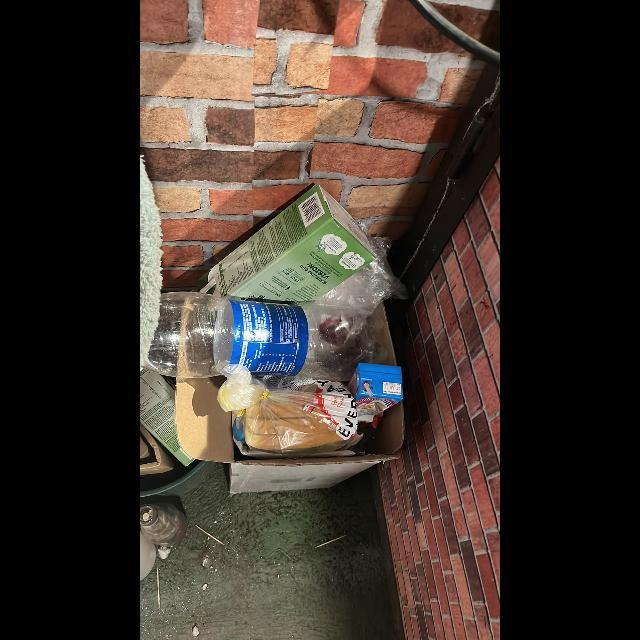plastic_bag: (217, 364, 364, 454), (316, 221, 409, 314)
plastic_bottle: (142, 291, 389, 382)
